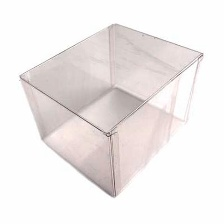plastic_box: (12, 15, 209, 203)
